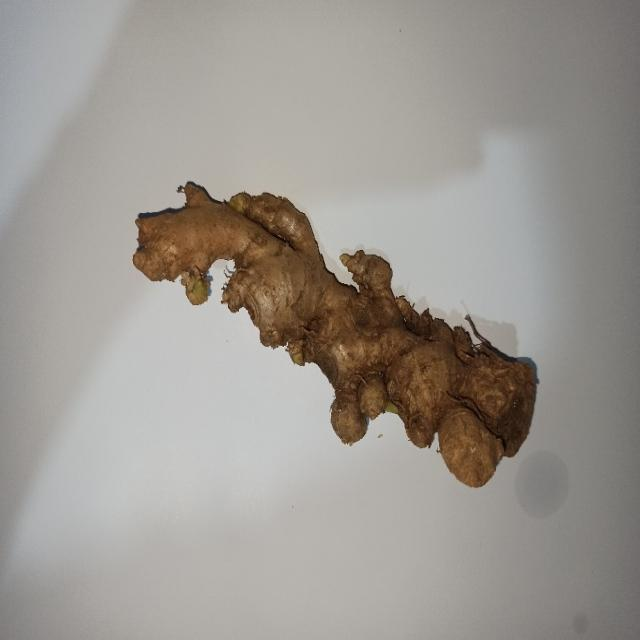ginger: (134, 179, 538, 493)
